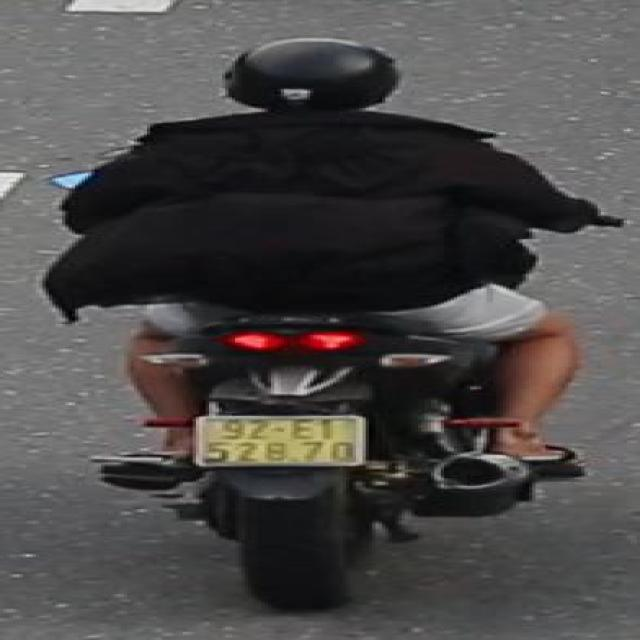LP: (188, 408, 374, 468)
helmet: (220, 33, 410, 128)
